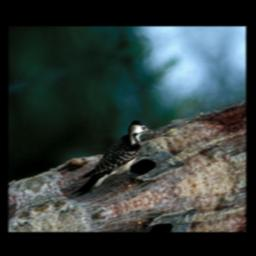Woodpecker: (57, 114, 165, 198)
